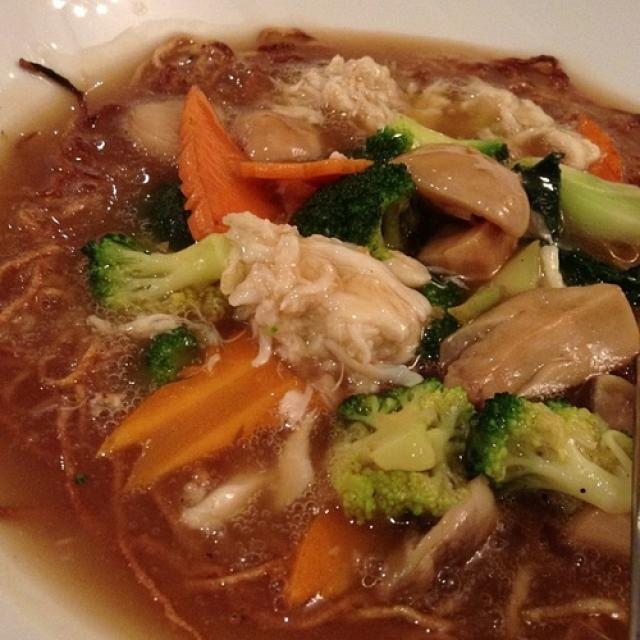面条主食: (30, 32, 613, 628)
